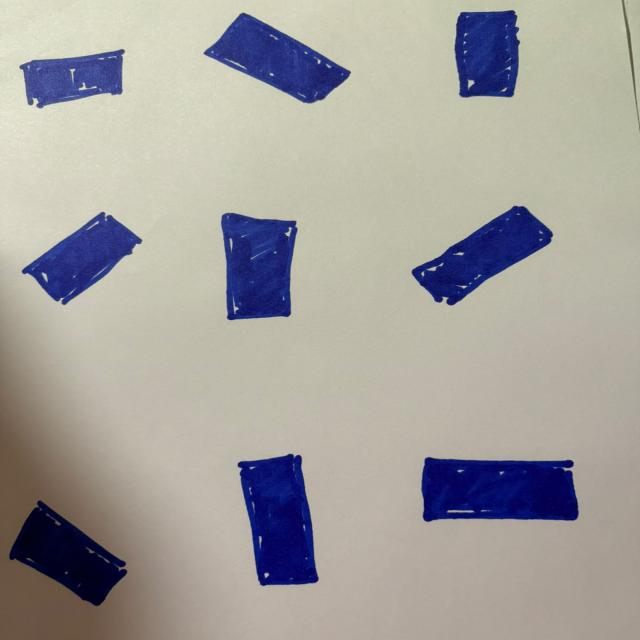Rectangle: (412, 206, 551, 305), (205, 14, 350, 103), (10, 501, 126, 606), (22, 212, 141, 304), (238, 454, 318, 585), (422, 458, 578, 521), (221, 213, 297, 320), (20, 50, 123, 108), (454, 10, 519, 97)
